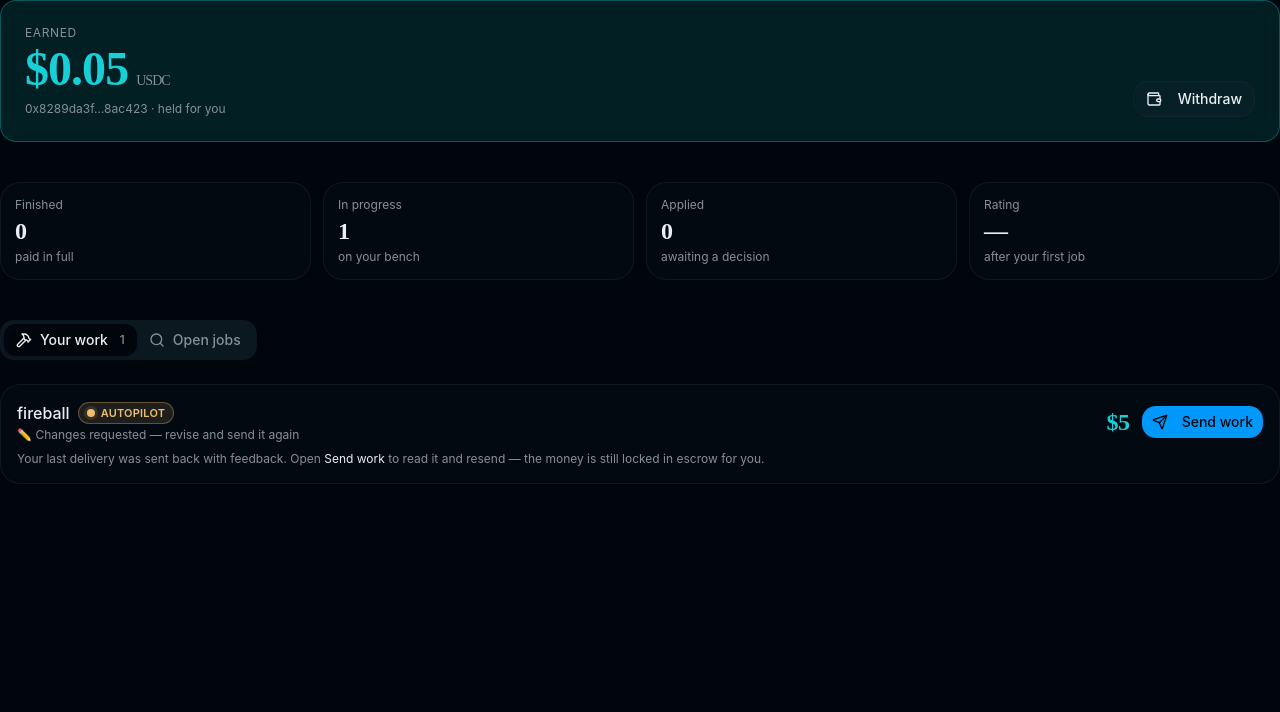
Scenario: what the reviewer actually decided › falls back to the plain criteria list before any verdict exists
Click the button "Send work": (1202, 422) left=1142, top=406, right=1263, bottom=438
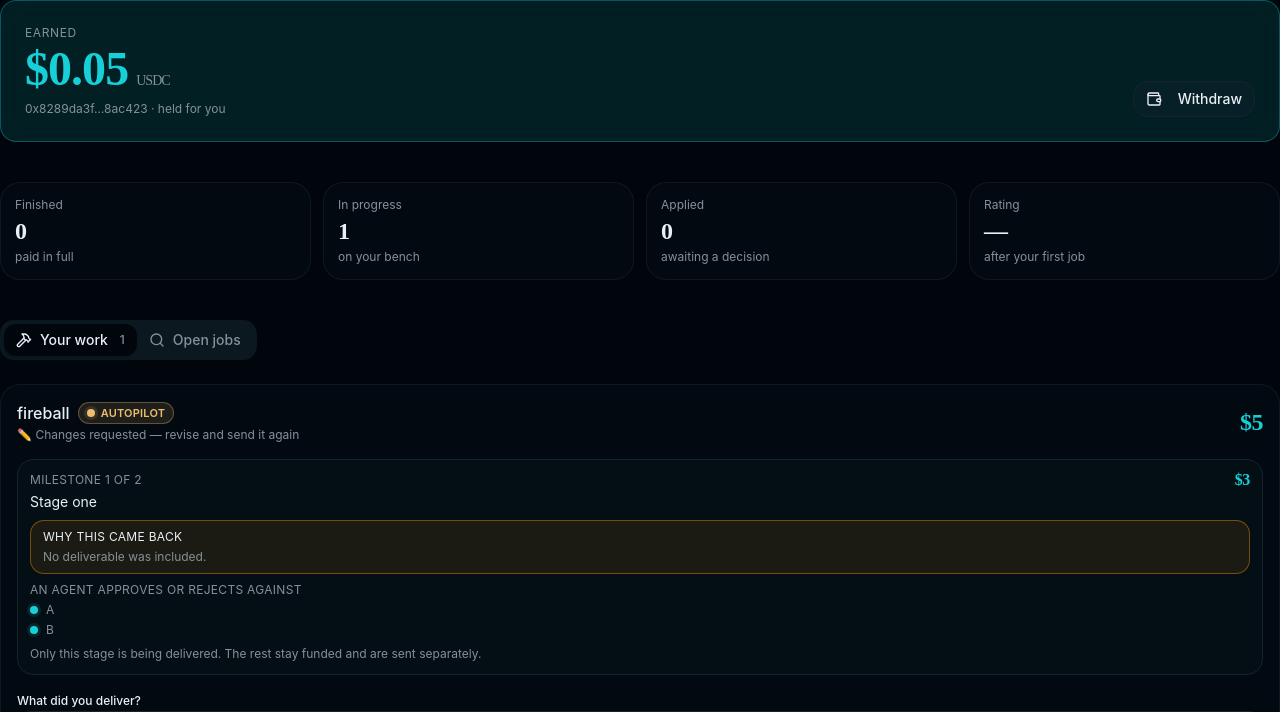
Check: the text "An agent approves or rejects against" is shown, box left=30, top=582, right=302, bottom=597
